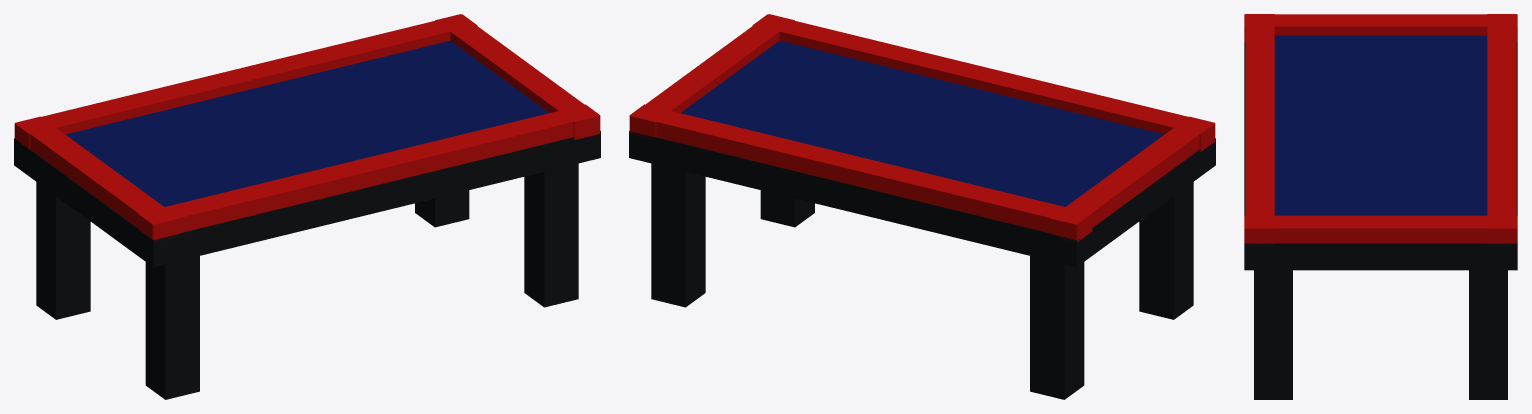
File: pool_table_blue.obj
3 renders of one model, left to right at view 1: azimuth 30°, elevation 25°; view 2: azimuth 150°, elevation 25°; view 3: azimuth 270°, elevation 25°, orthographic.
Parts seen in each view (by area): view 1: pool_table_blue; view 2: pool_table_blue; view 3: pool_table_blue.
Boxes of the visible parts, x1=… form: pool_table_blue: x1=14, y1=14, x2=600, y2=399; pool_table_blue: x1=629, y1=14, x2=1215, y2=399; pool_table_blue: x1=1244, y1=14, x2=1517, y2=399.
Bounding box in the file's own units: 2.6 × 1.01 × 1.4.
